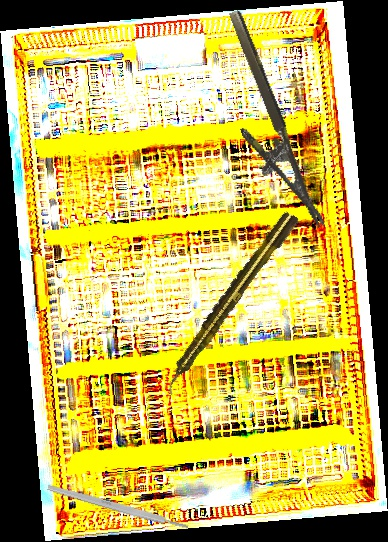Handpiece: (157, 208, 301, 397)
Needle Holder: (199, 8, 326, 242)
Scalpel Handle: (46, 483, 190, 532)
